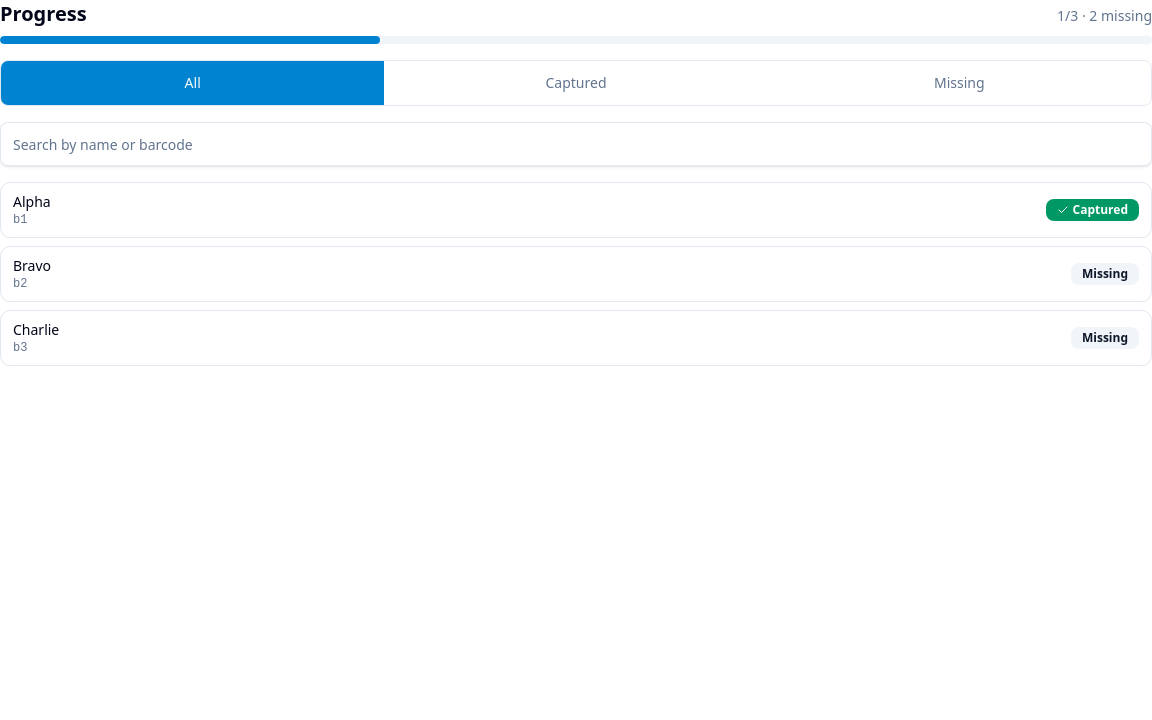
Progress page › capturing a missing SKU POSTs a new dim
This screenshot has width=1152, height=720.
Expected: the button "Alpha b1 Captured" is shown, x1=0 y1=182 x2=1151 y2=238
Click the button "Bravo b2 Missing" at (32, 266), box x1=0 y1=246 x2=1151 y2=302
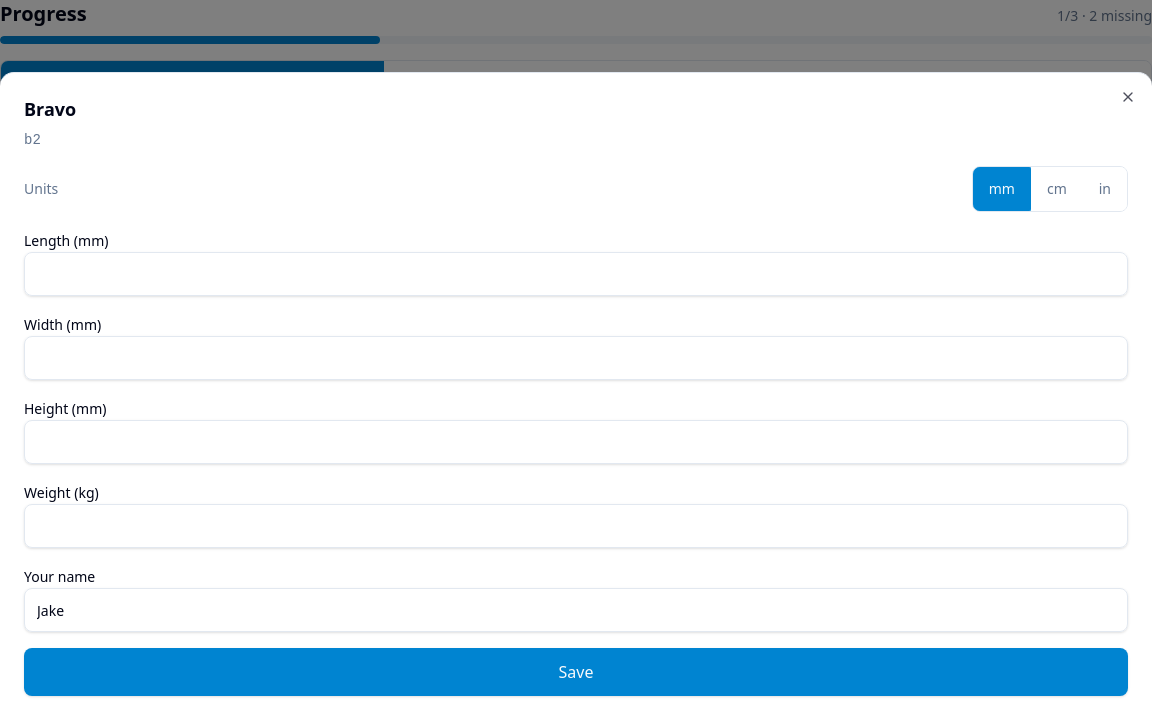
Type "100" into the number field labelled "Length (mm)" at (576, 274), box x1=24 y1=252 x2=1128 y2=296
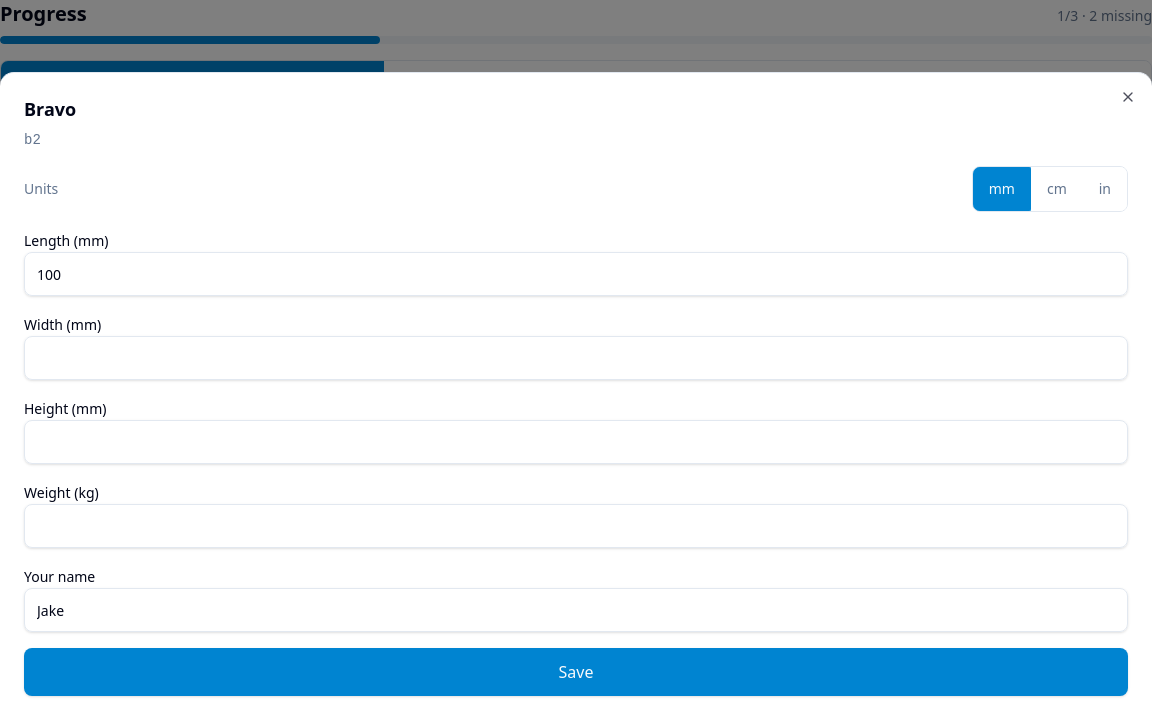
Type "90" into the number field labelled "Width (mm)" at (576, 358), box x1=24 y1=336 x2=1128 y2=380
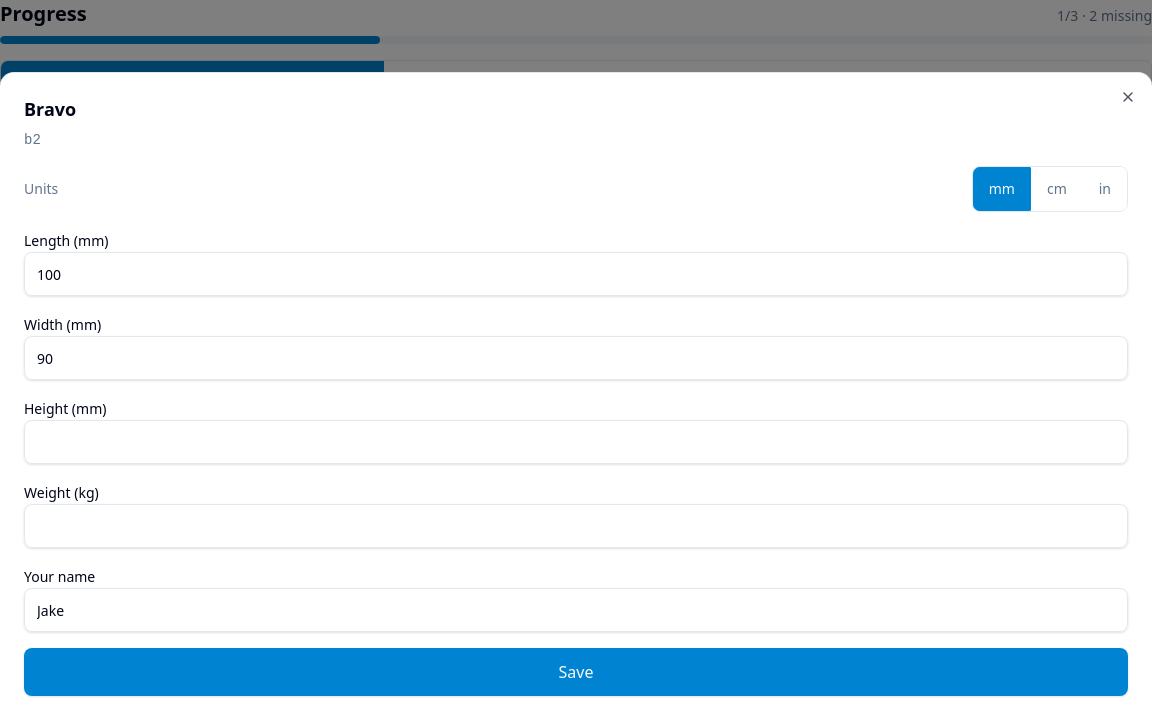
Type "80" into the number field labelled "Height (mm)" at (576, 442), box x1=24 y1=420 x2=1128 y2=464
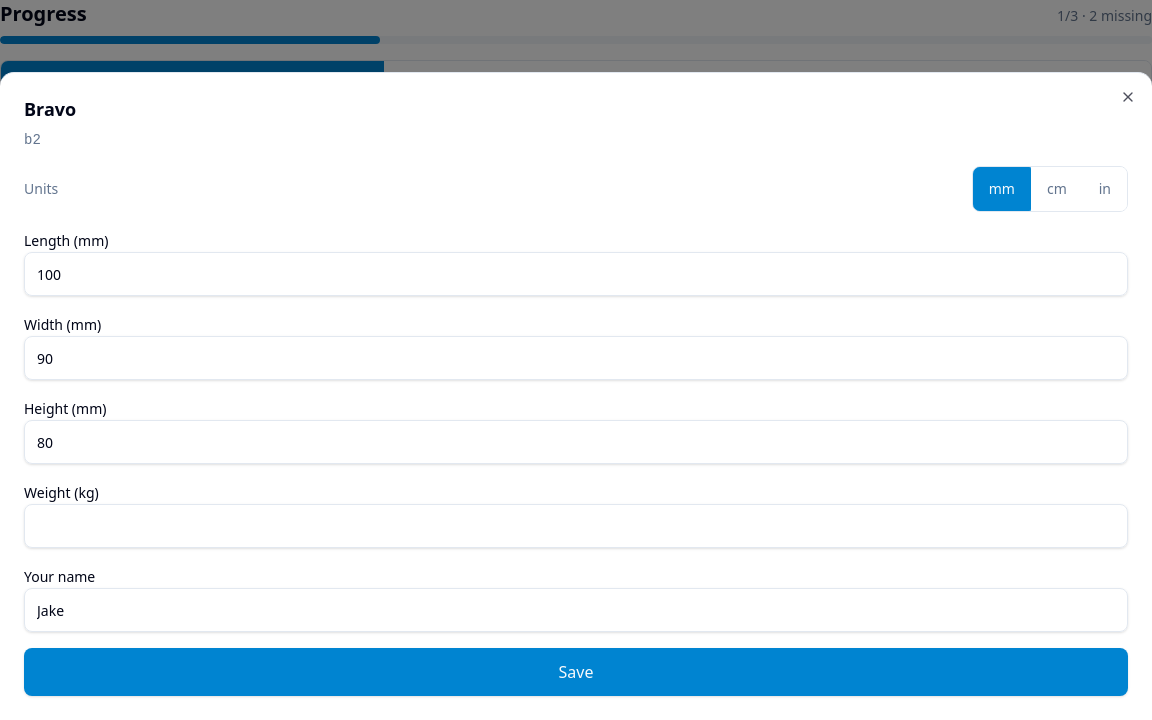
Type "1.1" into the number field labelled "Weight (kg)" at (576, 526), box x1=24 y1=504 x2=1128 y2=548
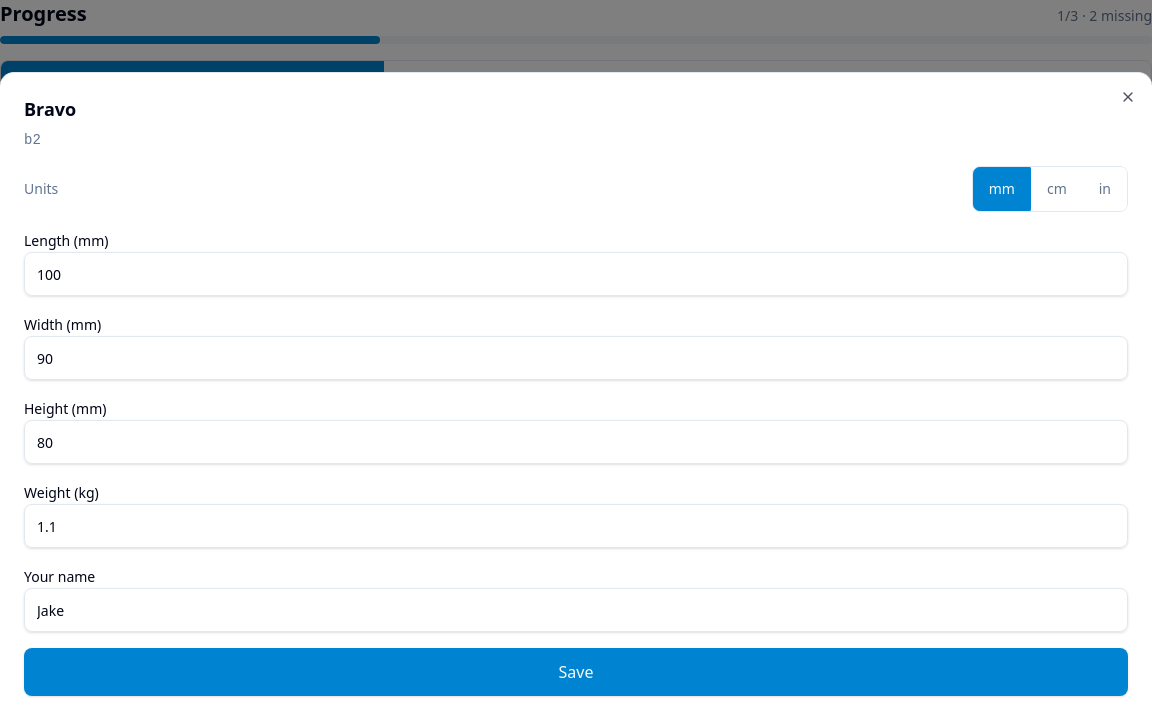
Click the button "Save" at (576, 672), box x1=24 y1=648 x2=1128 y2=696
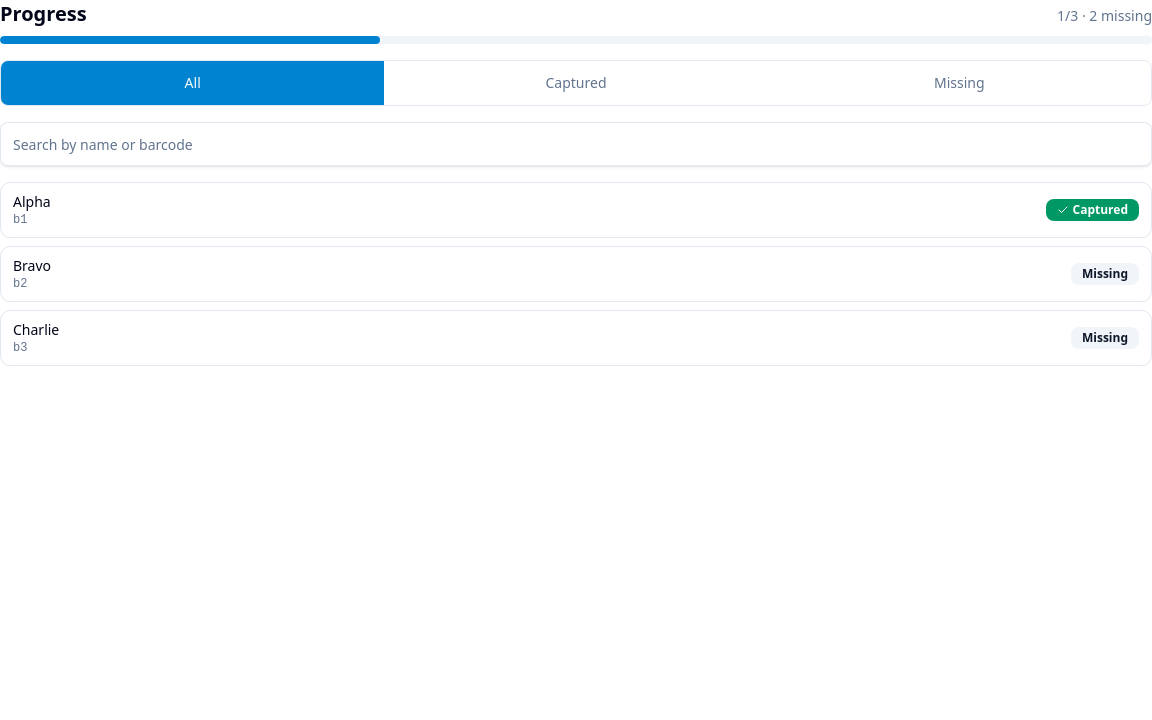
Expected: the dialog is gone
